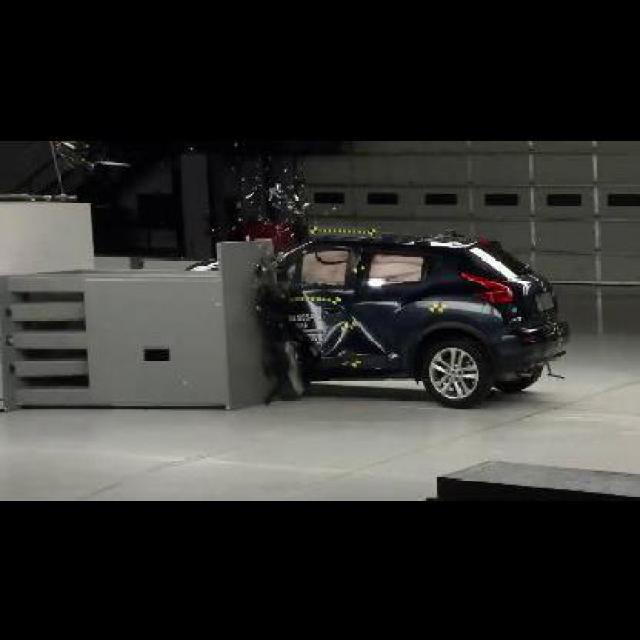accident: (176, 220, 572, 406)
